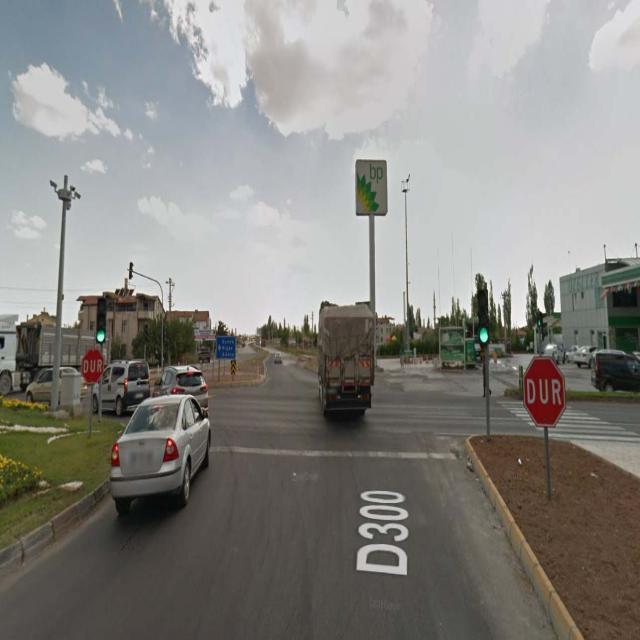dur: (524, 356, 564, 427), (81, 347, 102, 384)
yesil: (477, 290, 489, 346), (96, 296, 108, 343)
